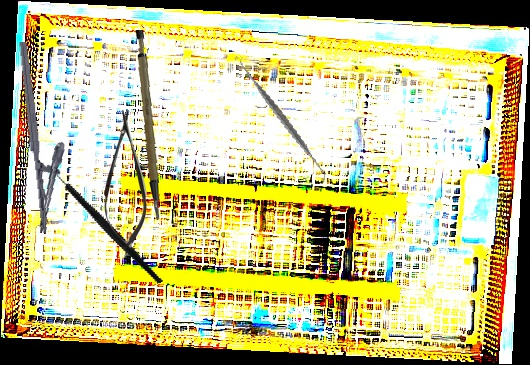Chopper: (40, 144, 164, 309)
Micro Scissor: (103, 110, 147, 249)
Needle Holder: (18, 38, 74, 234)
Scalpel Handle: (123, 29, 170, 221)
Spatula Surgical: (217, 56, 349, 183)
